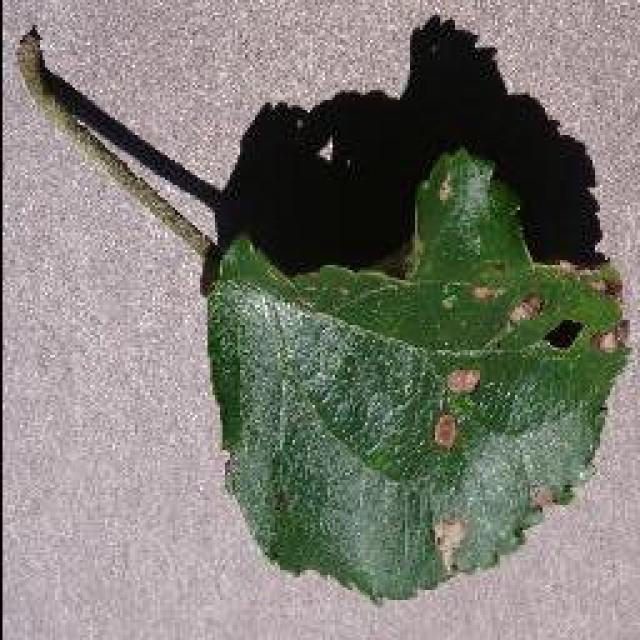Black_rot: (202, 143, 630, 605)
